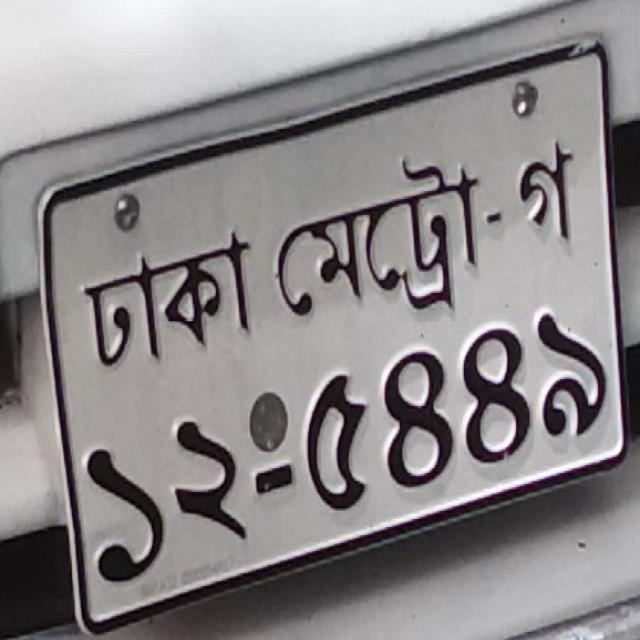numberplate: (24, 28, 630, 632)
